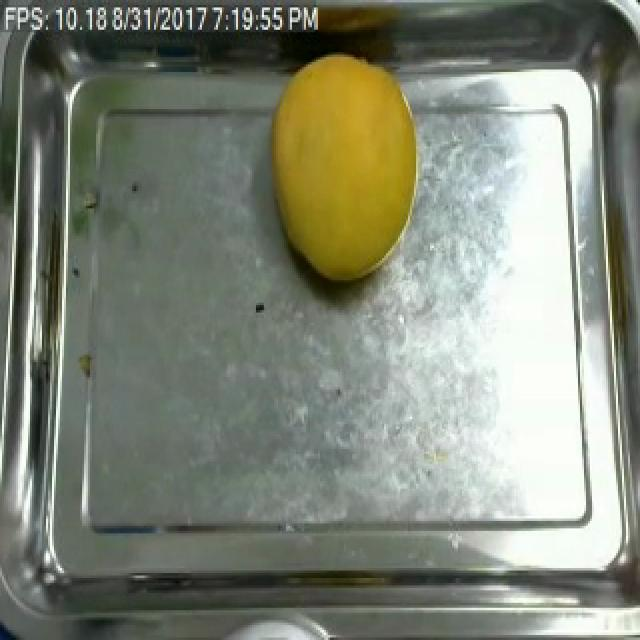fruit: (256, 45, 430, 298)
